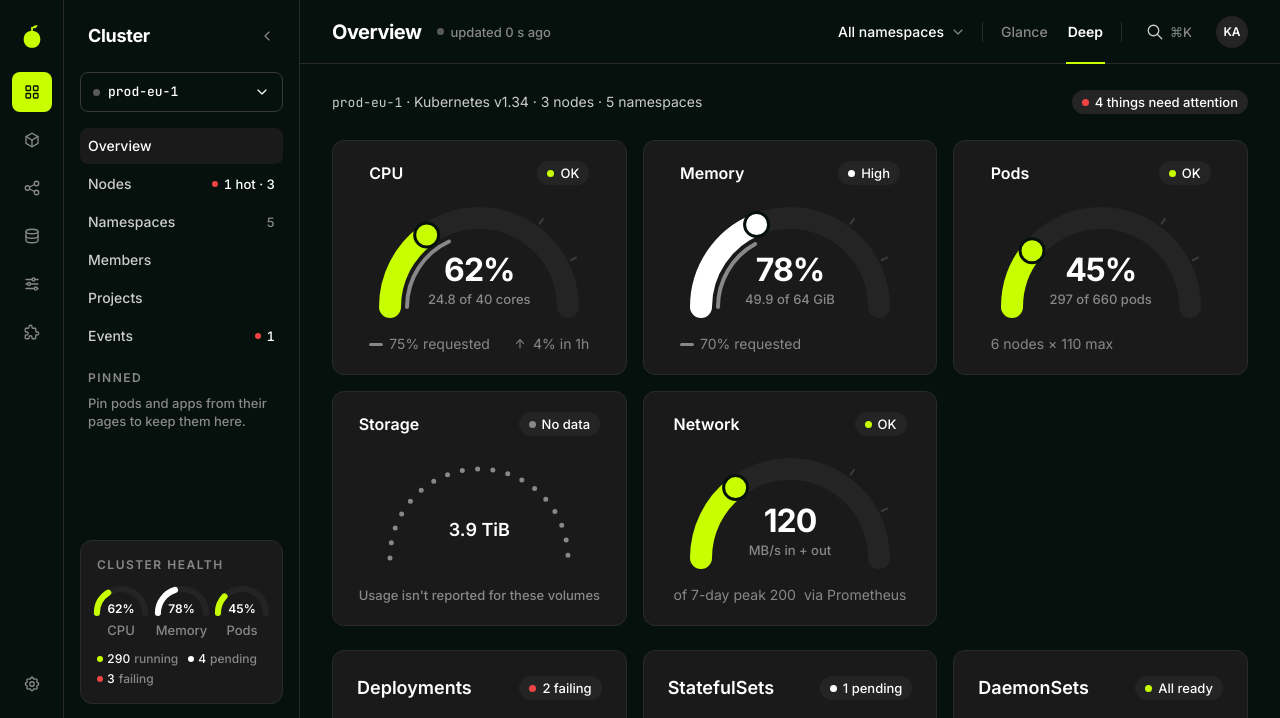
it: Command palette › says when nothing matches
This screenshot has width=1280, height=718.
Type keys "{Meta>}k{/Meta}"
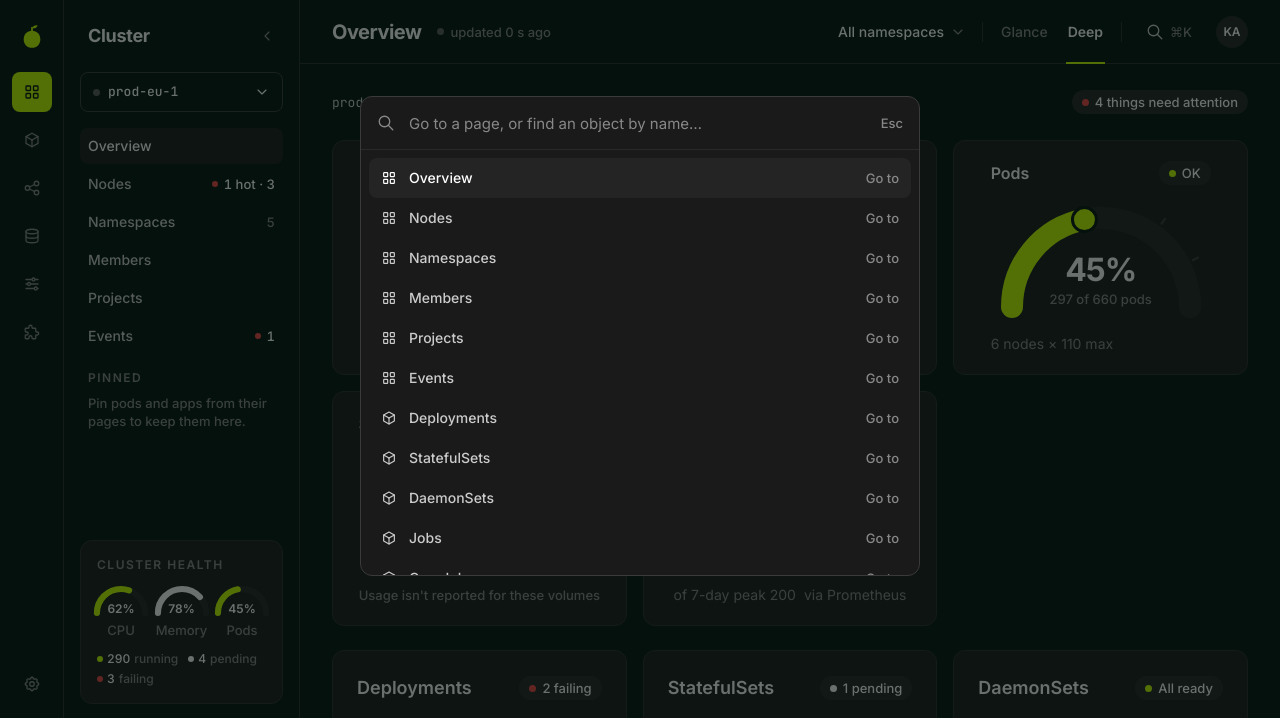
Type "zzzz" into the dropdown named "Search pages, commands and objects". click: (638, 123)
box: [407,97,869,149]
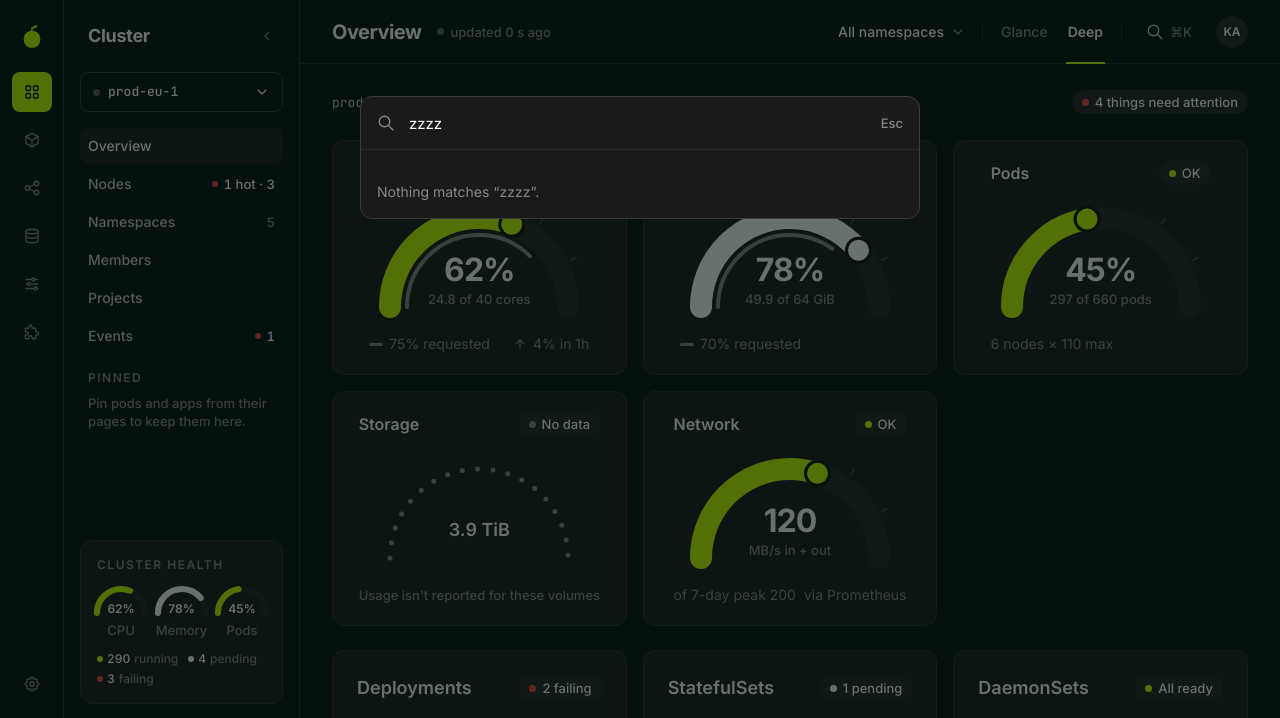
expect the text "Nothing matches “zzzz”." is shown: met, box [377,183,539,200]
